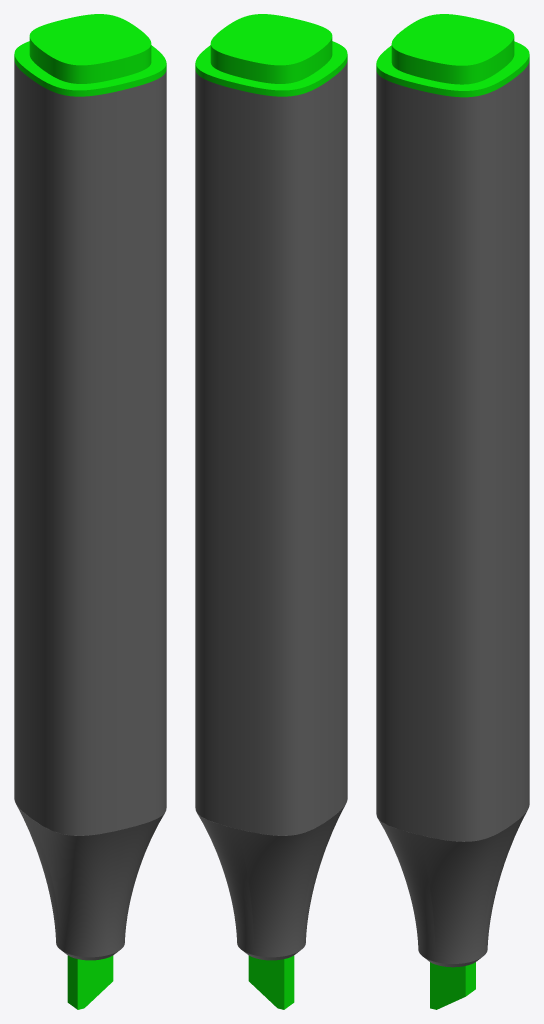
The model's file is Marker - Green.dae.
3 renders of one model, left to right at view 1: azimuth 30°, elevation 25°; view 2: azimuth 150°, elevation 25°; view 3: azimuth 330°, elevation 25°, orthographic.
Parts seen in each view (by area): view 1: a82a5fc9-4bf6-41bb-9680-f7cac0a16324, cd358d66-9814-48c0-817a-b748cc8f7b4f, afbe587d-0f6d-4abe-a325-a0fdfa8a6d08, aa75d642-cefc-4206-a49b-cf6ca32a8a56; view 2: a82a5fc9-4bf6-41bb-9680-f7cac0a16324, cd358d66-9814-48c0-817a-b748cc8f7b4f, afbe587d-0f6d-4abe-a325-a0fdfa8a6d08, aa75d642-cefc-4206-a49b-cf6ca32a8a56; view 3: a82a5fc9-4bf6-41bb-9680-f7cac0a16324, cd358d66-9814-48c0-817a-b748cc8f7b4f, afbe587d-0f6d-4abe-a325-a0fdfa8a6d08, aa75d642-cefc-4206-a49b-cf6ca32a8a56.
Part boxes in pixels (x1,y1,x2,y2): a82a5fc9-4bf6-41bb-9680-f7cac0a16324: [14, 60, 166, 835]; cd358d66-9814-48c0-817a-b748cc8f7b4f: [15, 801, 166, 960]; afbe587d-0f6d-4abe-a325-a0fdfa8a6d08: [14, 14, 166, 96]; aa75d642-cefc-4206-a49b-cf6ca32a8a56: [67, 955, 113, 1009]; a82a5fc9-4bf6-41bb-9680-f7cac0a16324: [195, 60, 347, 835]; cd358d66-9814-48c0-817a-b748cc8f7b4f: [195, 801, 346, 960]; afbe587d-0f6d-4abe-a325-a0fdfa8a6d08: [195, 14, 347, 96]; aa75d642-cefc-4206-a49b-cf6ca32a8a56: [248, 955, 294, 1009]; a82a5fc9-4bf6-41bb-9680-f7cac0a16324: [376, 61, 529, 841]; cd358d66-9814-48c0-817a-b748cc8f7b4f: [376, 806, 529, 967]; afbe587d-0f6d-4abe-a325-a0fdfa8a6d08: [376, 14, 529, 97]; aa75d642-cefc-4206-a49b-cf6ca32a8a56: [430, 962, 475, 1009].
Bounding box in the file's own units: 20 × 20 × 155.
